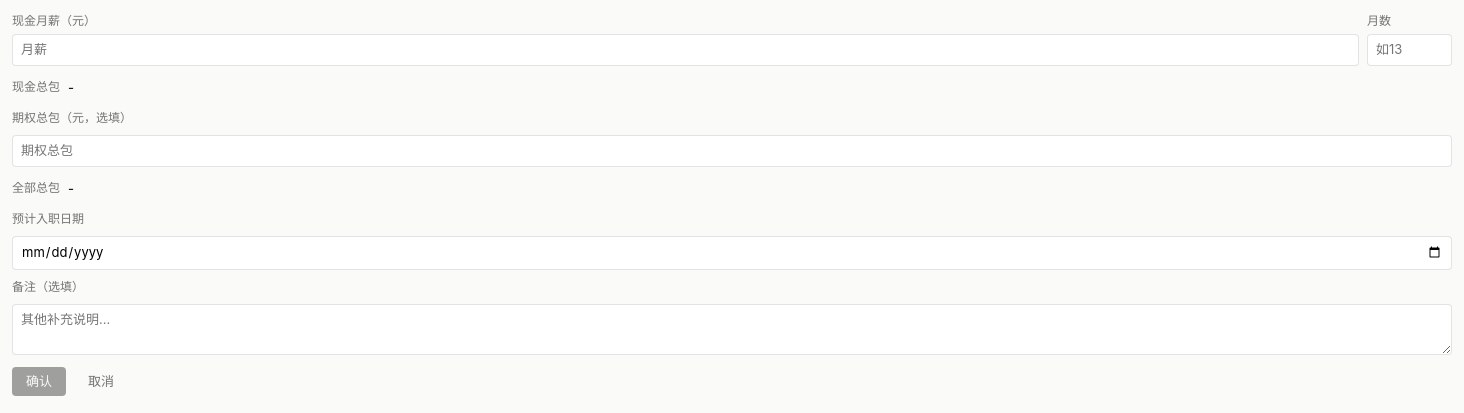
Scenario: OfferForm › 自动计算现金总包
The width and height of the screenshot is (1464, 413).
Step 1. Type "30000" into the number field with placeholder "月薪" → (686, 50), box [12,34,1359,66]
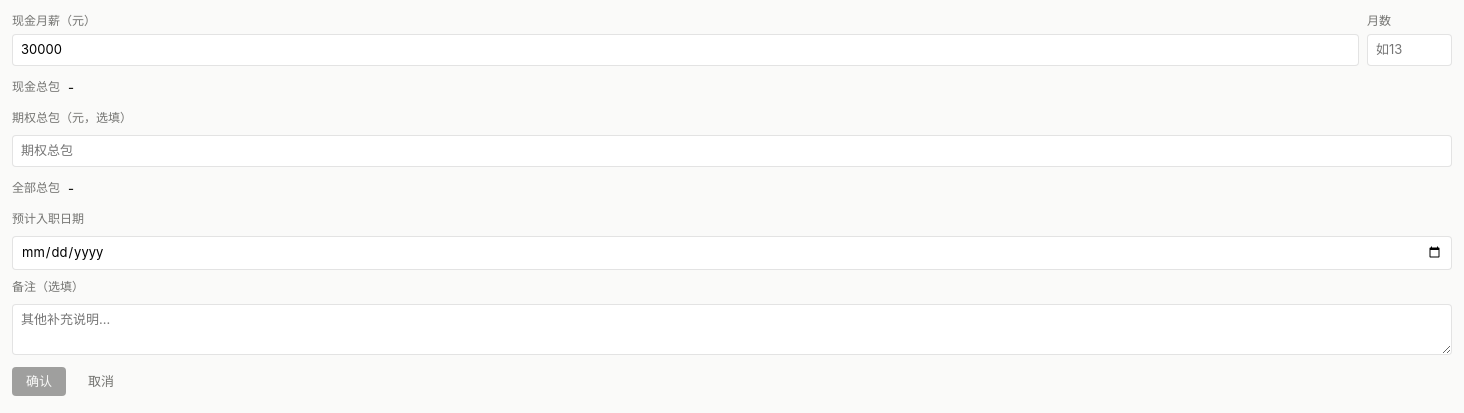
Step 2. Type "13" into the number field with placeholder "如13" → (1410, 50), box [1367,34,1452,66]
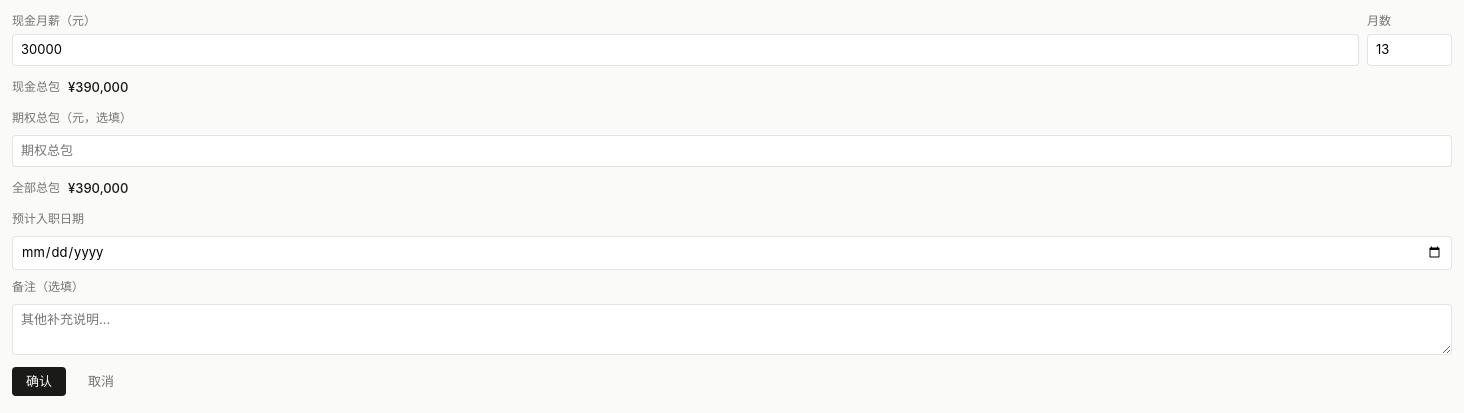
Expected: the text with class "computed-value" next to "现金总包" reads "¥390,000", [68,78,128,94]
